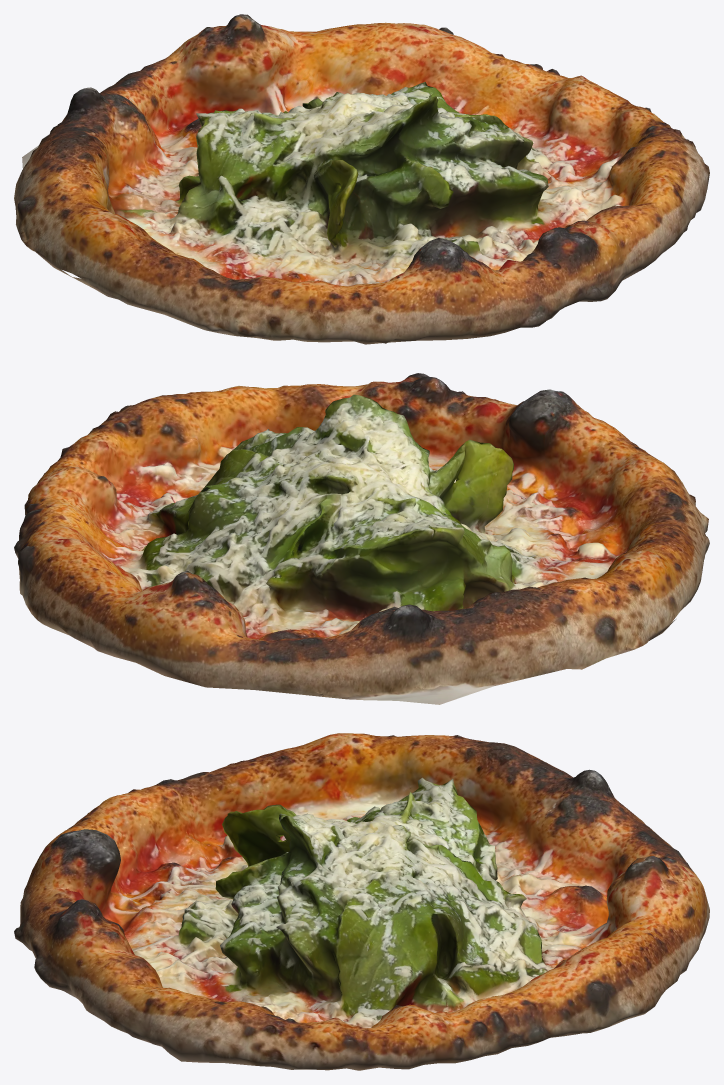
Rendered from roka.glb.
3 renders of one model, top to bottom at view 1: azimuth 30°, elevation 25°; view 2: azimuth 150°, elevation 25°; view 3: azimuth 270°, elevation 25°, orthographic. The views are drawn at different scales.
Size of the model in its own units: 0.9583 by 0.2085 by 0.935.
Materials: 1 (1 with a texture image).
